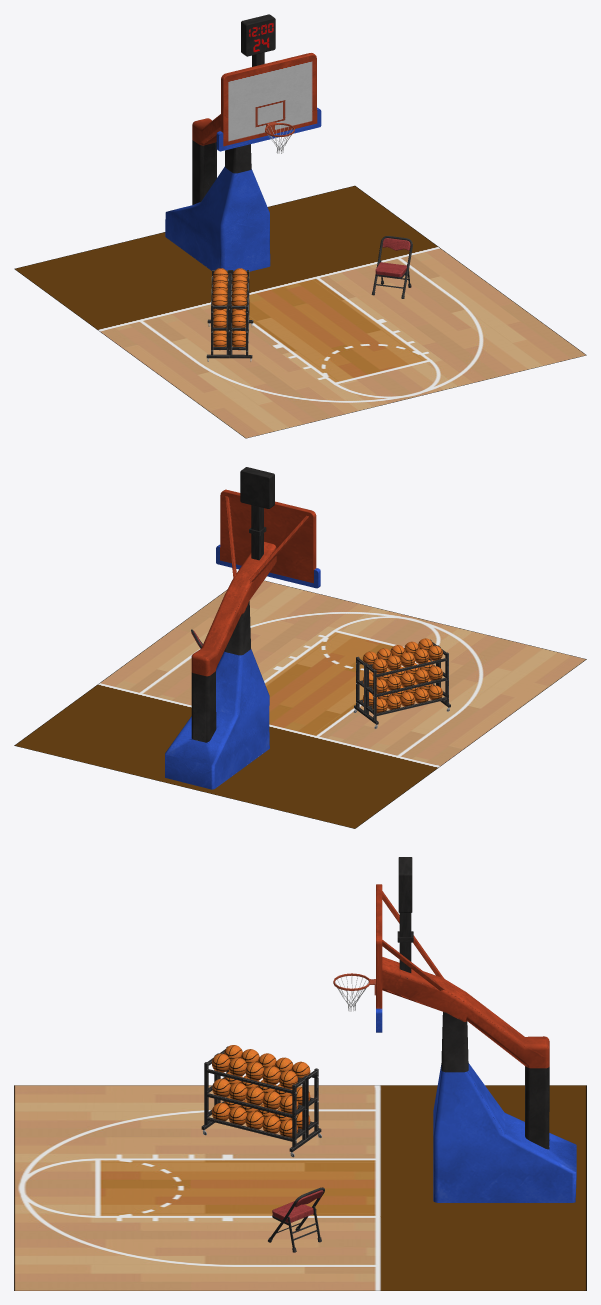
Rendered from Escena.fbx.
3 views of the same model, one above another, from view 1: azimuth 30°, elevation 25°; view 2: azimuth 150°, elevation 25°; view 3: azimuth 270°, elevation 25° (orthographic). The views are drawn at different scales.
Parts seen in each view (by area): view 1: Cancha, Aro, Carrito2, Silla; view 2: Cancha, Aro, Carrito2; view 3: Cancha, Aro, Carrito2, Silla.
Part boxes in pixels (<box>): Cancha: <box>14,185,586,438</box>; Aro: <box>165,14,321,271</box>; Carrito2: <box>206,268,253,361</box>; Silla: <box>371,236,412,298</box>; Cancha: <box>14,580,586,828</box>; Aro: <box>165,467,320,789</box>; Carrito2: <box>353,638,450,728</box>; Cancha: <box>14,1085,586,1290</box>; Aro: <box>333,857,576,1202</box>; Carrito2: <box>201,1045,321,1157</box>; Silla: <box>268,1187,324,1252</box>.
Size of the model in its own units: 13.48 by 9.88 by 15.86.
